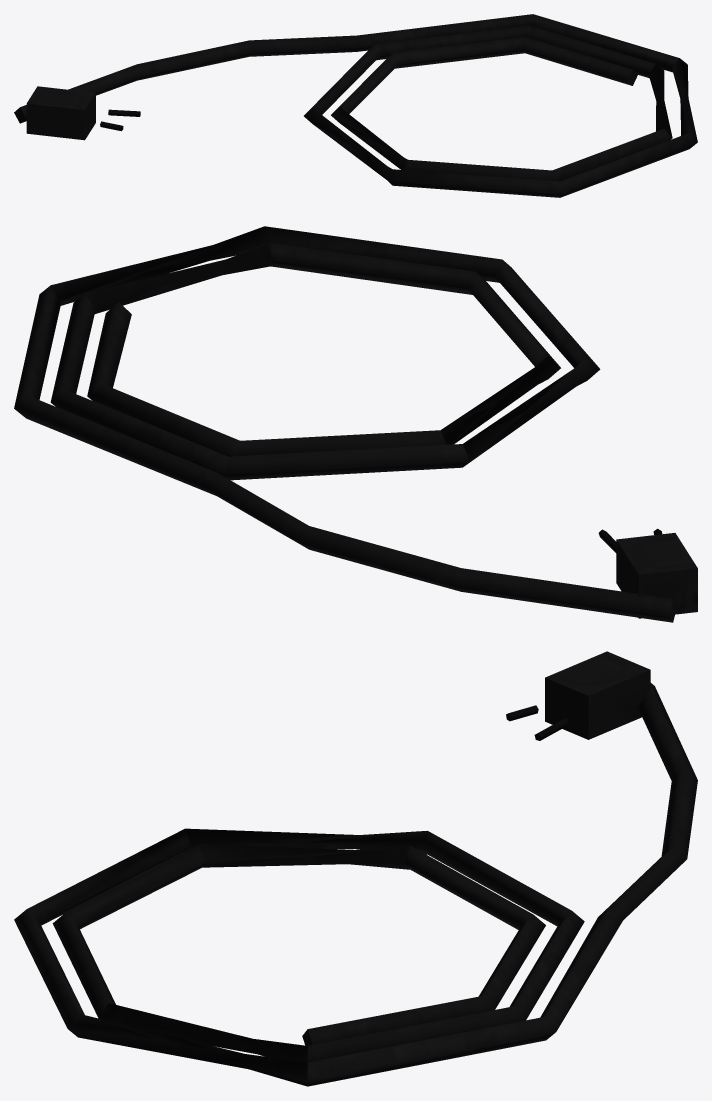
File: cable_coil_lod1_web.glb
3 renders of one model, top to bottom at view 1: azimuth 30°, elevation 25°; view 2: azimuth 150°, elevation 25°; view 3: azimuth 270°, elevation 25°, orthographic. The views are drawn at different scales.
Parts seen in each view (by area): view 1: CableCoil_Body; view 2: CableCoil_Body; view 3: CableCoil_Body.
Boxes of the visible parts, left/top/right/bottom form: CableCoil_Body: left=14, top=14, right=697, bottom=197; CableCoil_Body: left=14, top=226, right=697, bottom=622; CableCoil_Body: left=14, top=651, right=697, bottom=1086.
Bounding box in the file's own units: 0.4267 × 0.022 × 0.3107.
Materials: 1 (1 with a texture image).
